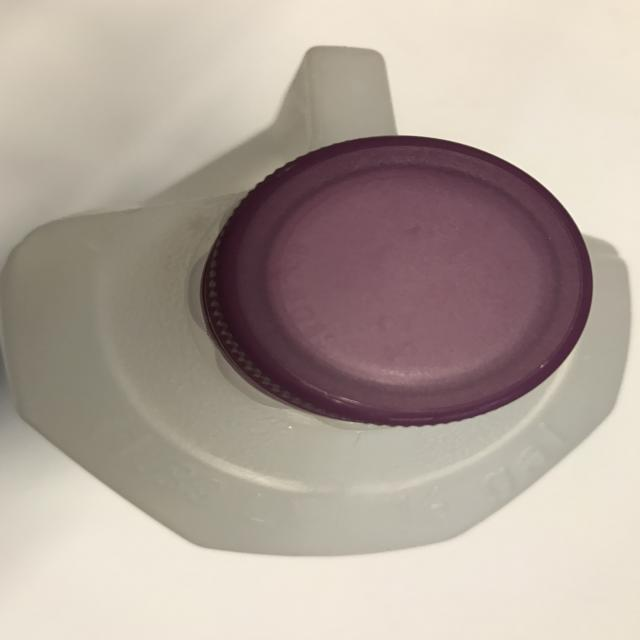plastic: (0, 44, 630, 556)
